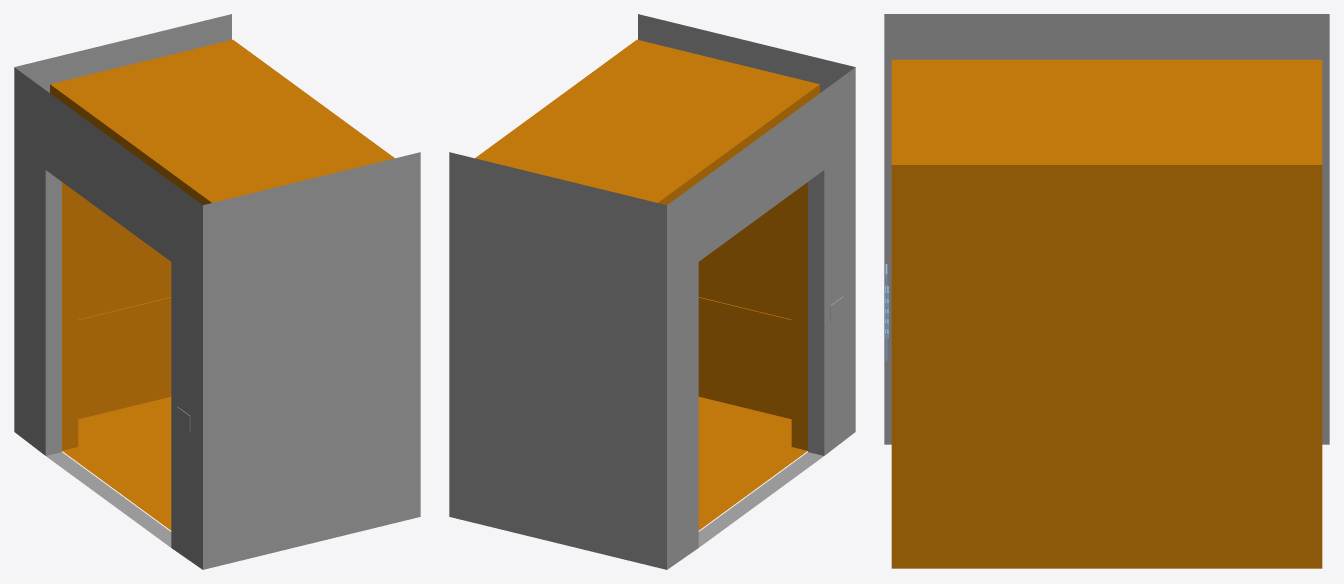
The model's file is E05_lift.fbx.
3 renders of one model, left to right at view 1: azimuth 30°, elevation 25°; view 2: azimuth 150°, elevation 25°; view 3: azimuth 270°, elevation 25°, orthographic. The views are drawn at different scales.
Parts seen in each view (by area): view 1: Lift_frame, Lift; view 2: Lift_frame, Lift; view 3: Lift, Lift_frame.
Part boxes in pixels (box(x1,y1,x2,y2)): Lift_frame: box(14, 14, 420, 569); Lift: box(50, 39, 394, 530); Lift_frame: box(449, 14, 855, 569); Lift: box(475, 39, 819, 530); Lift: box(891, 59, 1322, 568); Lift_frame: box(884, 14, 1329, 444).
Bounding box in the file's own units: 201 × 321 × 300.
